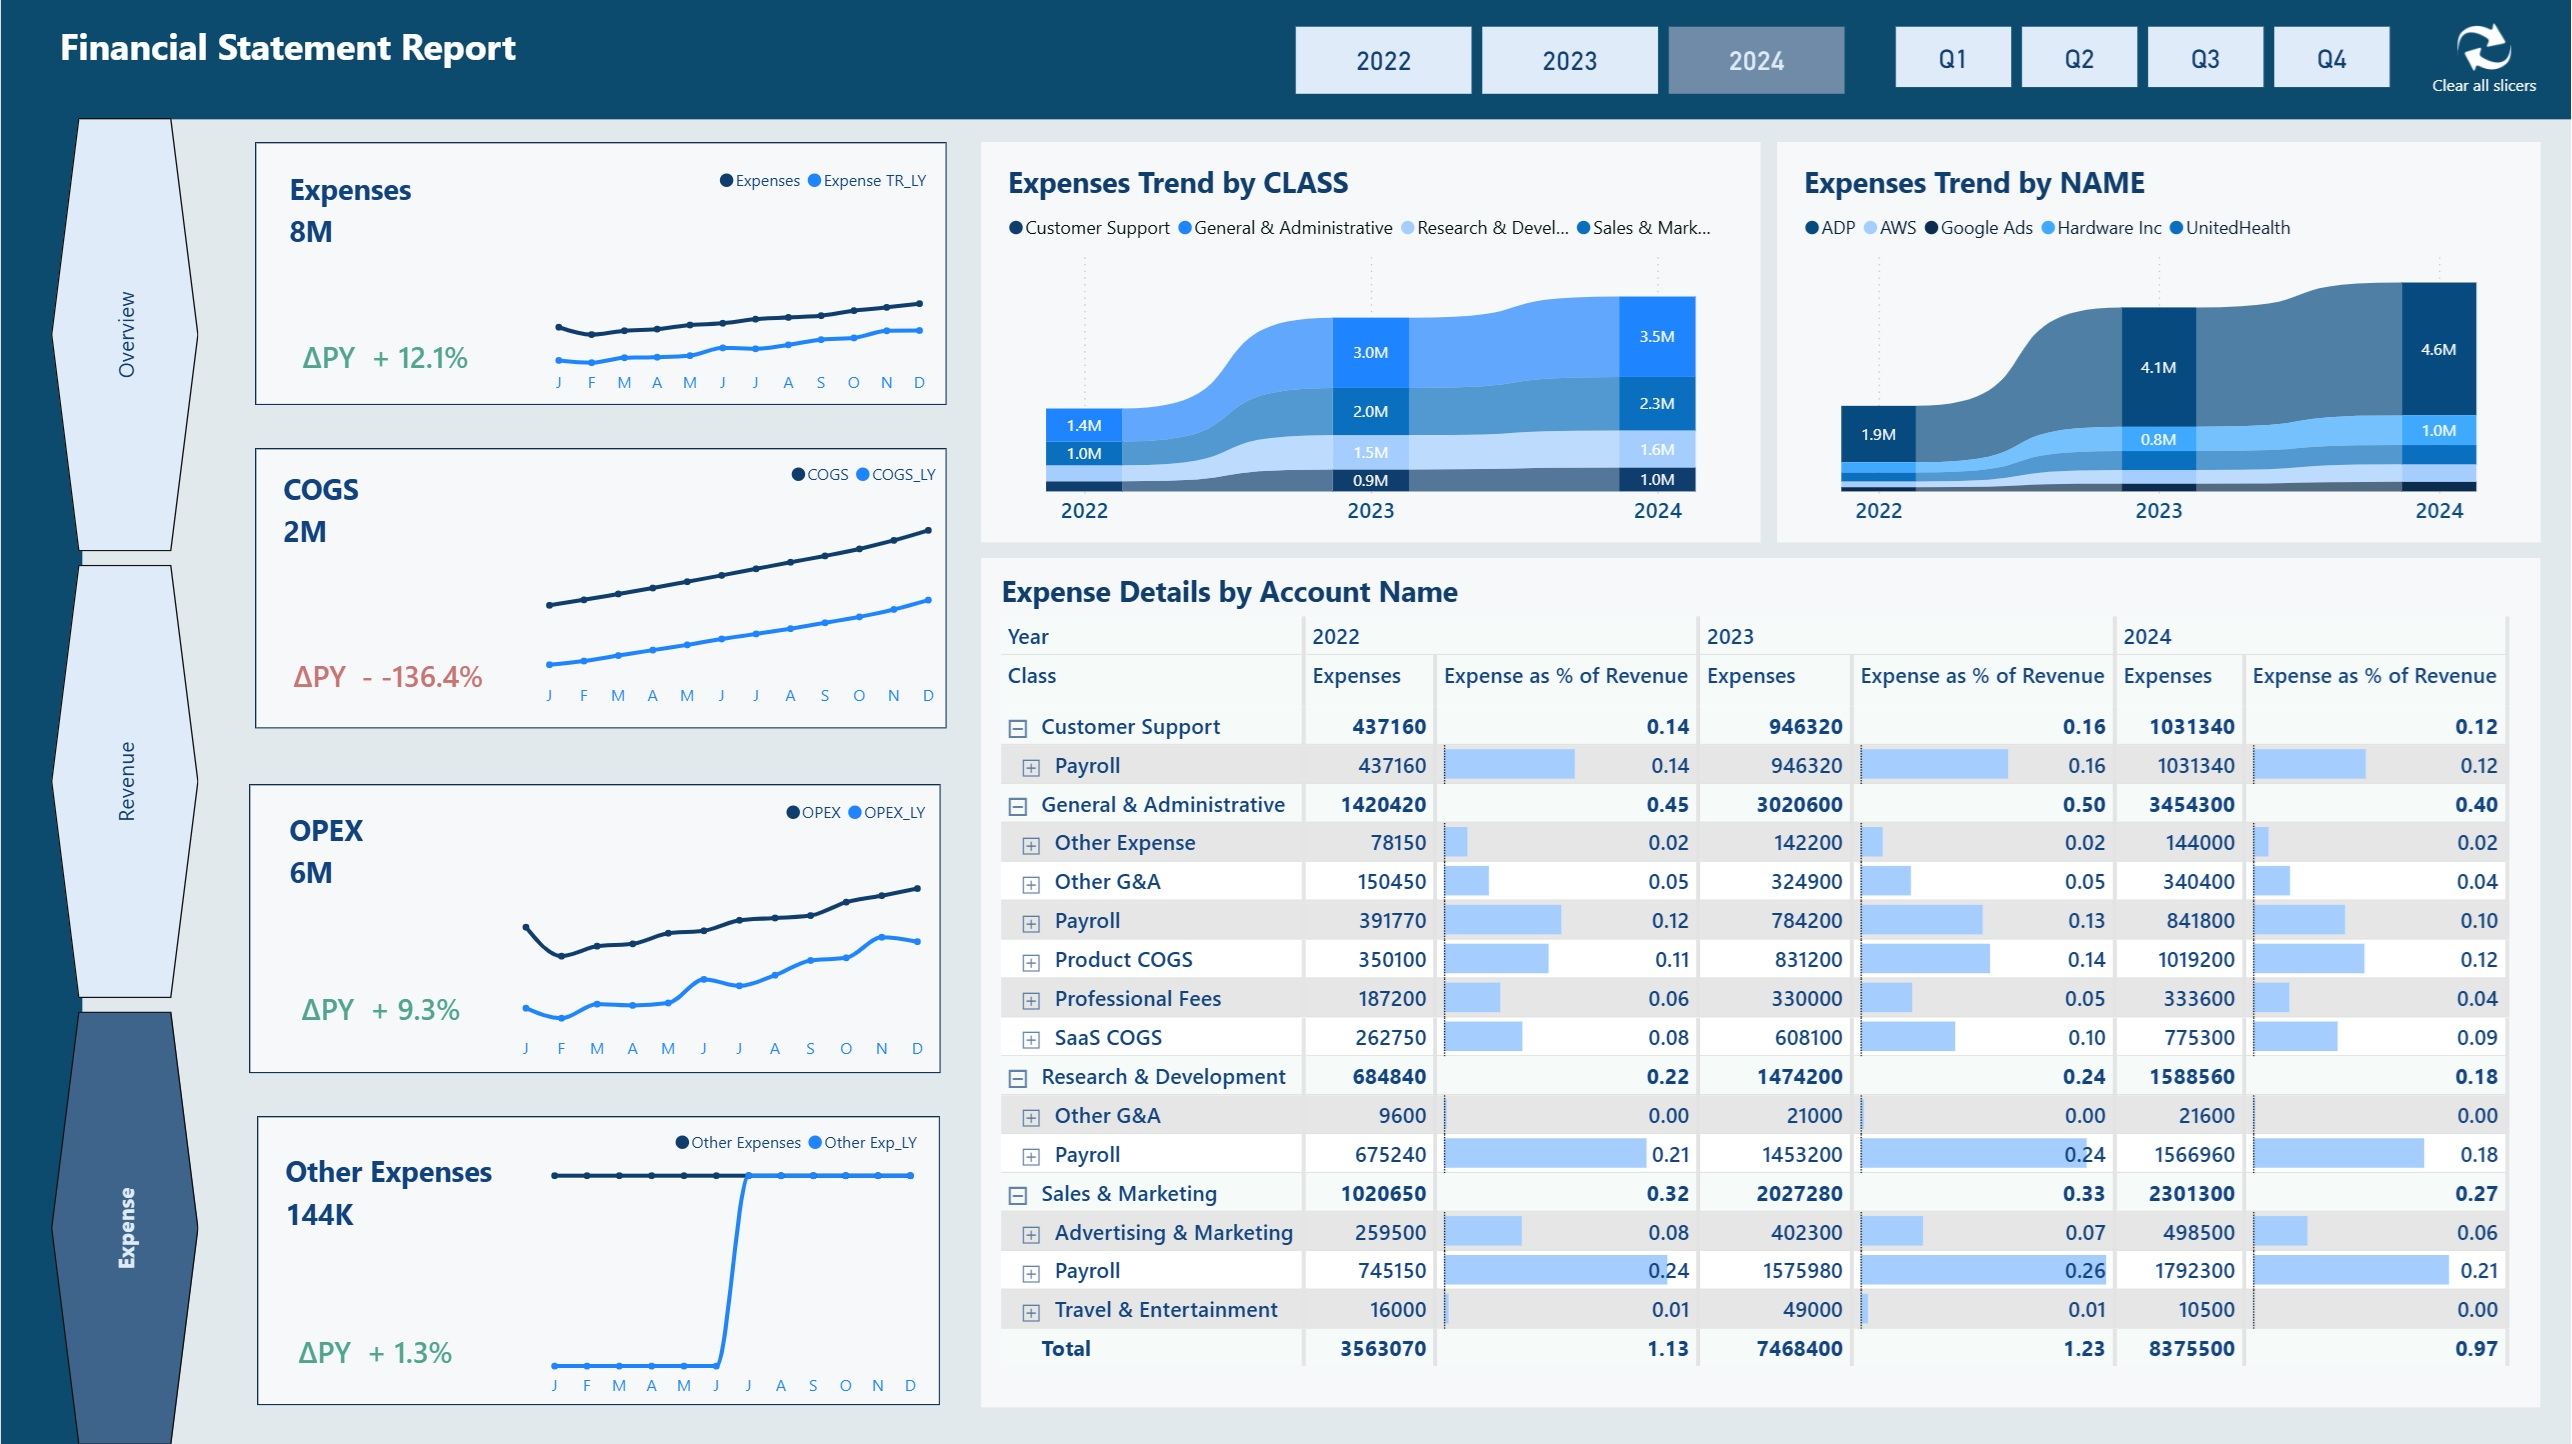

The dashboard page shown, as its layout file describes it:
{"tool":"powerbi","page":{"name":"Expense","canvas":[1920,1080],"ordinal":2},"visuals":[{"type":"shape","box":[60.3,87.9,1865.5,994.8],"z":0},{"type":"cardVisual","title":"Revenue","fields":{"Data":["Measure.Expenses"]},"box":[199.4,104.9,180,107],"z":0,"group":"g1"},{"type":"cardVisual","title":"Revenue","fields":{"Data":["Measure.COGS"]},"box":[194.6,334.1,162.9,95.9],"z":0,"group":"g2"},{"type":"cardVisual","title":"Revenue","fields":{"Data":["Measure.OPEX"]},"box":[199.7,586.4,173.5,97.3],"z":0,"group":"g3"},{"type":"card","fields":{"Values":["Measure.Other Exp YoY% Dynamic"]},"box":[193,988.9,173.6,41.6],"z":0,"group":"g4"},{"type":"lineChart","fields":{"Category":["Calendar.Month Initial"],"Y":["Measure.Expenses","Measure.Expense TR_LY"]},"box":[400.5,114.8,298.4,188.1],"z":1000,"group":"g1"},{"type":"lineChart","fields":{"Category":["Calendar.Month Initial"],"Y":["Measure.COGS","Measure.COGS_LY"]},"box":[392.5,334.5,312.9,202.3],"z":1000,"group":"g2"},{"type":"card","fields":{"Values":["Measure.OPEX YoY% Dynamic"]},"box":[190.4,724.9,184.7,54.8],"z":1000,"group":"g3"},{"type":"shape","box":[191.4,831.9,509.2,215.7],"z":1000},{"type":"lineChart","fields":{"Category":["Calendar.Month Initial"],"Y":["Measure.Other Expenses","Measure.Other Exp_LY"]},"box":[398,831.9,294.4,218.9],"z":1000,"group":"g4"},{"type":"card","fields":{"Values":["Measure.Expense YoY% Dynamic"]},"box":[193.1,243.4,185.4,49.7],"z":2000,"group":"g1"},{"type":"card","fields":{"Values":["Measure.Total COGS YoY% Dynamic"]},"box":[195.8,479.9,183.6,50.6],"z":2000,"group":"g2"},{"type":"shape","box":[184.9,583.8,515.7,215.7],"z":2000},{"type":"lineChart","fields":{"Category":["Calendar.Month Initial"],"Y":["Measure.OPEX","Measure.OPEX_LY"]},"box":[376,585.4,323,214.1],"z":2000,"group":"g3"},{"type":"cardVisual","title":"Revenue","fields":{"Data":["Measure.Other Expenses"]},"box":[197.3,834.2,196.1,111.8],"z":2000,"group":"g4"},{"type":"shape","box":[189.7,334.1,515.7,209.2],"z":3000},{"type":"shape","box":[189.7,105.4,515.7,196.2],"z":4000},{"type":"ribbonChart","title":"Expenses Trend by CLASS","fields":{"Category":["Calendar.Year"],"Y":["Measure.Expenses"],"Series":["Transaction.CLASS"]},"box":[731,105.2,581,298.3],"z":5000},{"type":"pivotTable","title":"Expense Details by Account Name","fields":{"Rows":["Transaction.CLASS","Matrix.LEVEL_02","Transaction.NAME"],"Values":["Measure.Expenses","Measure.Expense as % of Revenue"],"Columns":["Calendar.Year"]},"box":[731,415.5,1162.1,632.8],"z":6000},{"type":"group","id":"g1","title":"Revenue","box":[193.1,104.9,505.8,198],"z":7000},{"type":"group","id":"g2","title":"COGS","box":[194.6,334.1,510.8,202.7],"z":8000},{"type":"group","id":"g3","title":"GP 1","box":[190.4,585.4,508.5,214.1],"z":9000},{"type":"group","id":"g4","title":"EBT","box":[193,831.9,499.5,218.9],"z":10000},{"type":"ribbonChart","title":"Expenses Trend by NAME","fields":{"Category":["Calendar.Year"],"Y":["Measure.Expenses"],"Series":["Transaction.NAME"]},"box":[1324.1,105.2,569,298.3],"z":11000},{"type":"pageNavigator","box":[38,88.3,110.4,991.7],"z":12000},{"type":"advancedSlicerVisual","fields":{"Values":["Calendar.Quarter"]},"box":[1407.6,14.6,379.5,55.1],"z":13000},{"type":"advancedSlicerVisual","fields":{"Values":["Calendar.Year"]},"box":[960,14.6,420,60],"z":14000},{"type":"textbox","box":[38.3,10,400,63.3],"z":15000},{"type":"actionButton","box":[1805,0,88.3,88.3],"z":16000}]}

Visuals, with their boxes in screenshot pixels (x1, y1, x2, y2), scaled from the page's 1920x1080 canvas onto the 2572x1444 screenshot:
shape: 81/118/2571/1443
"Revenue" cardVisual: 267/140/508/283
"Revenue" cardVisual: 261/447/479/575
"Revenue" cardVisual: 268/784/500/914
card - Measure.Other Exp YoY% Dynamic: 259/1322/491/1378
lineChart - Calendar.Month Initial x Measure.Expenses: 537/153/936/405
lineChart - Calendar.Month Initial x Measure.COGS: 526/447/945/718
card - Measure.OPEX YoY% Dynamic: 255/969/502/1042
shape: 256/1112/939/1401
lineChart - Calendar.Month Initial x Measure.Other Expenses: 533/1112/928/1405
card - Measure.Expense YoY% Dynamic: 259/325/507/392
card - Measure.Total COGS YoY% Dynamic: 262/642/508/709
shape: 248/781/939/1069
lineChart - Calendar.Month Initial x Measure.OPEX: 504/783/936/1069
"Revenue" cardVisual: 264/1115/527/1265
shape: 254/447/945/726
shape: 254/141/945/403
"Expenses Trend by CLASS" ribbonChart: 979/141/1758/539
"Expense Details by Account Name" pivotTable: 979/556/2536/1402
"Revenue" group: 259/140/936/405
"COGS" group: 261/447/945/718
"GP 1" group: 255/783/936/1069
"EBT" group: 259/1112/928/1405
"Expenses Trend by NAME" ribbonChart: 1774/141/2536/539
pageNavigator: 51/118/199/1443
advancedSlicerVisual - Calendar.Quarter: 1886/20/2394/93
advancedSlicerVisual - Calendar.Year: 1286/20/1849/100
textbox: 51/13/587/98
actionButton: 2418/0/2536/118
